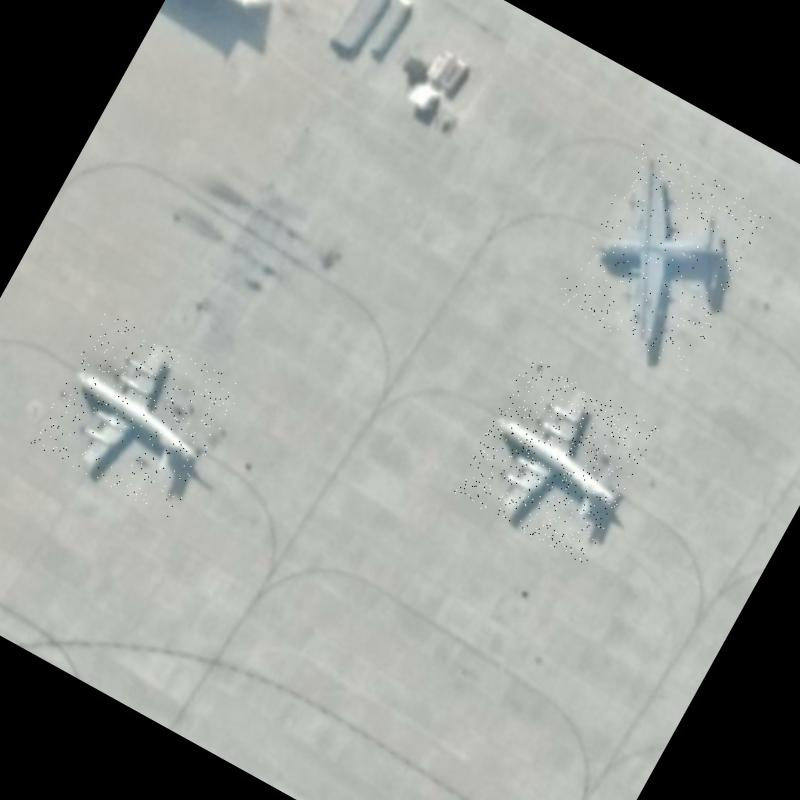A2: (554, 140, 774, 373)
A9: (29, 308, 244, 520), (451, 354, 660, 565)
